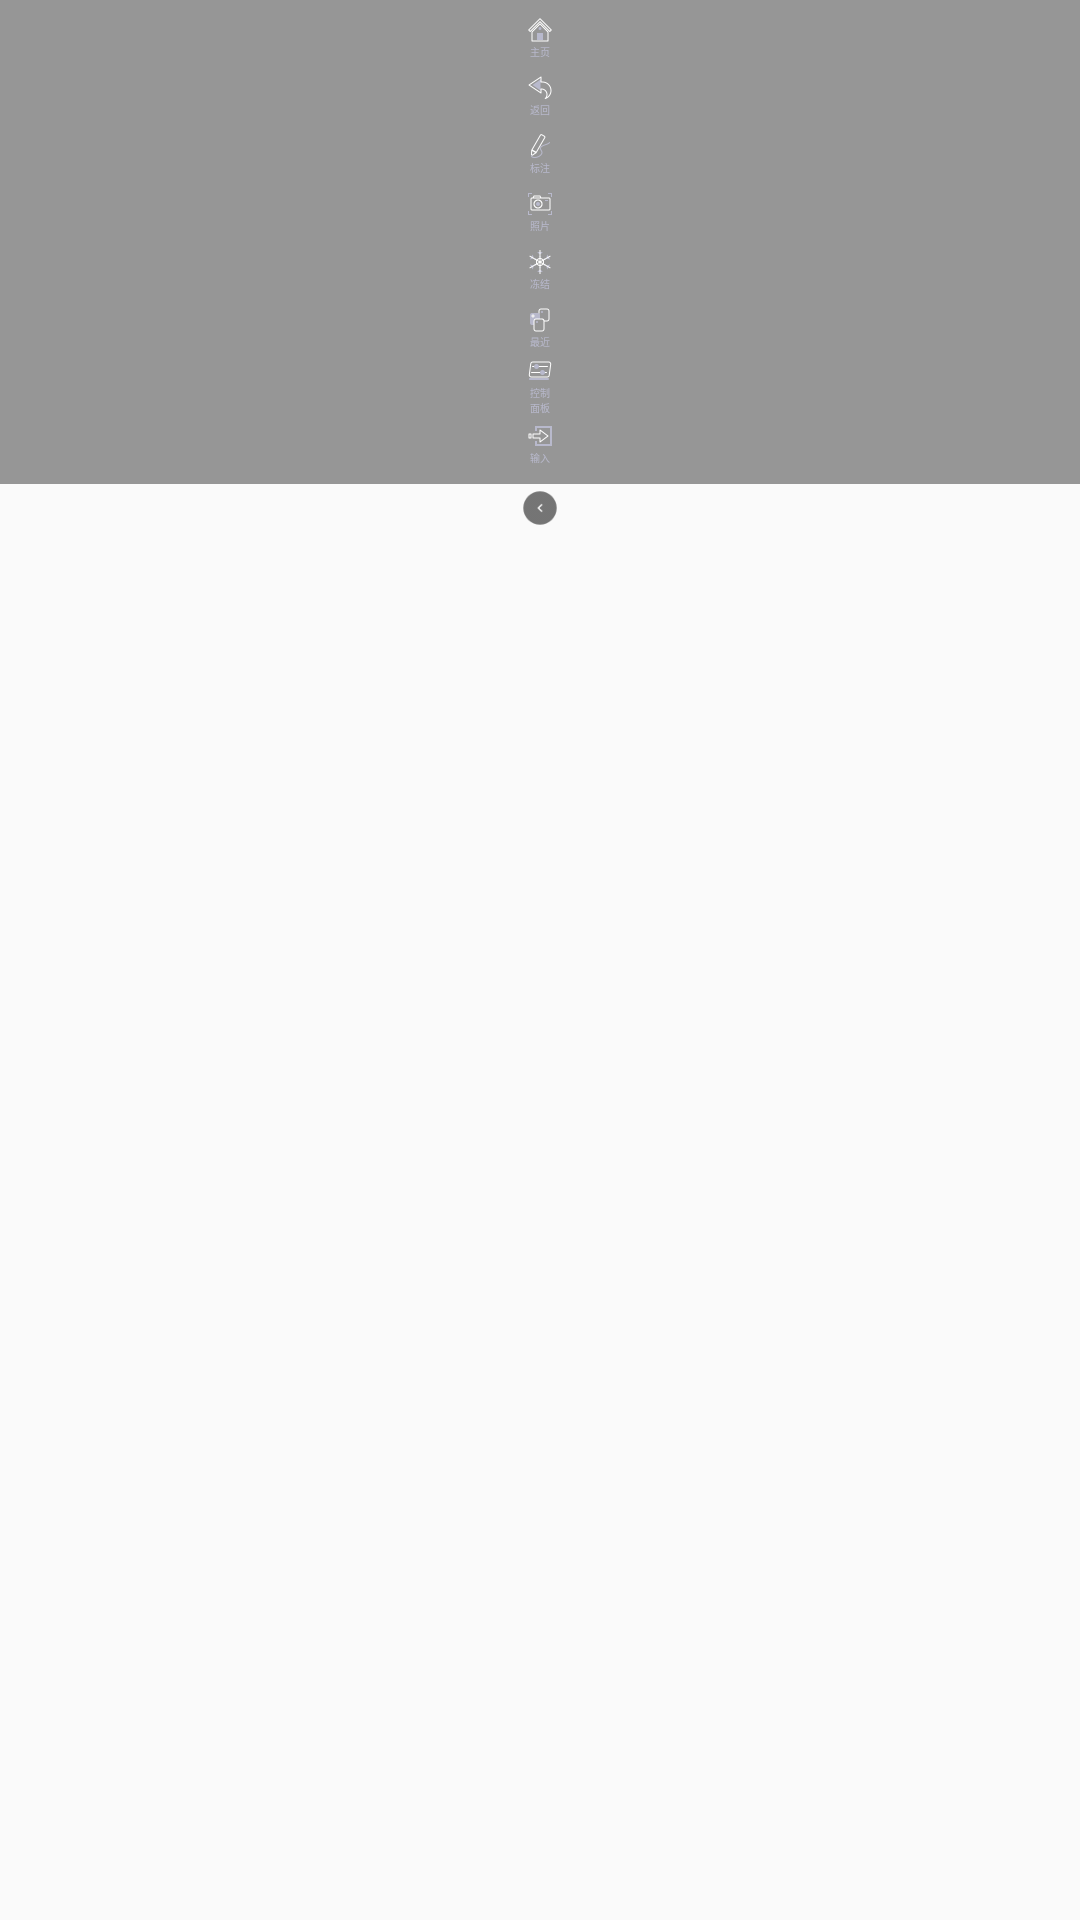

Screen size 1080×1920. Icon name, then its box in pixels as (x1, y1, x2, y2):
left fold: (523, 491, 557, 525)
